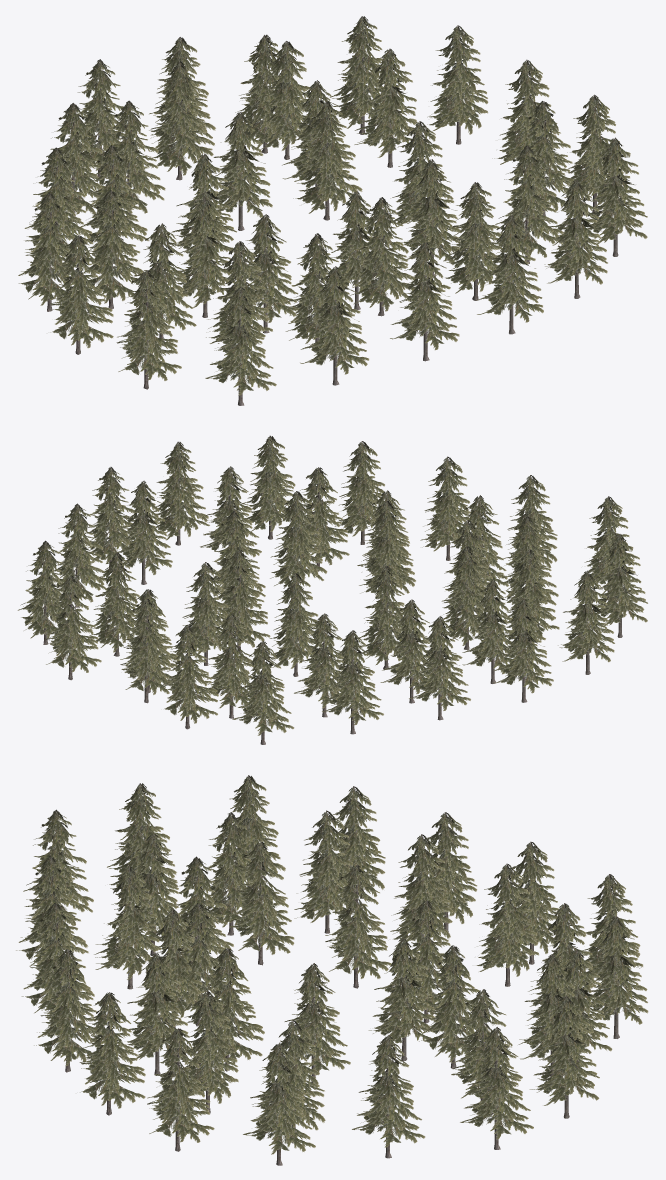
File: forest.fbx
3 views of the same model, one above another, from view 1: azimuth 30°, elevation 25°; view 2: azimuth 150°, elevation 25°; view 3: azimuth 270°, elevation 25° (orthographic). The views are drawn at different scales.
Parts seen in each view (by area): view 1: Object_4; view 2: Object_4; view 3: Object_4.
Part boxes in pixels (<box>): Object_4: <box>18,16,647,405</box>; Object_4: <box>17,435,647,744</box>; Object_4: <box>16,775,648,1165</box>.
Size of the model in its own units: 5140 by 996 by 4642.
1 material, 1 textured.
